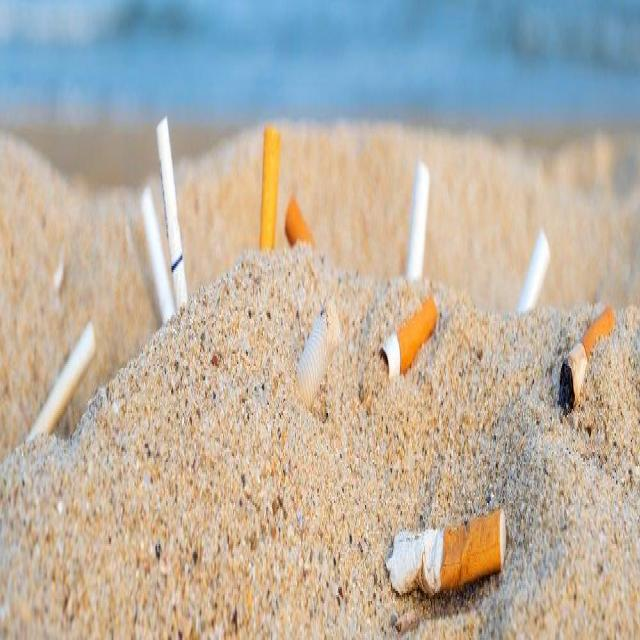cigarette: (385, 511, 506, 599), (25, 321, 95, 444), (156, 119, 188, 315), (559, 309, 614, 409), (380, 294, 438, 380), (141, 188, 174, 325), (405, 159, 432, 280), (517, 229, 550, 315), (258, 131, 281, 252), (284, 196, 316, 247)
